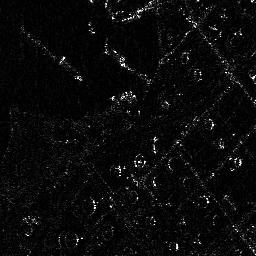ship: (56, 55, 83, 81)
